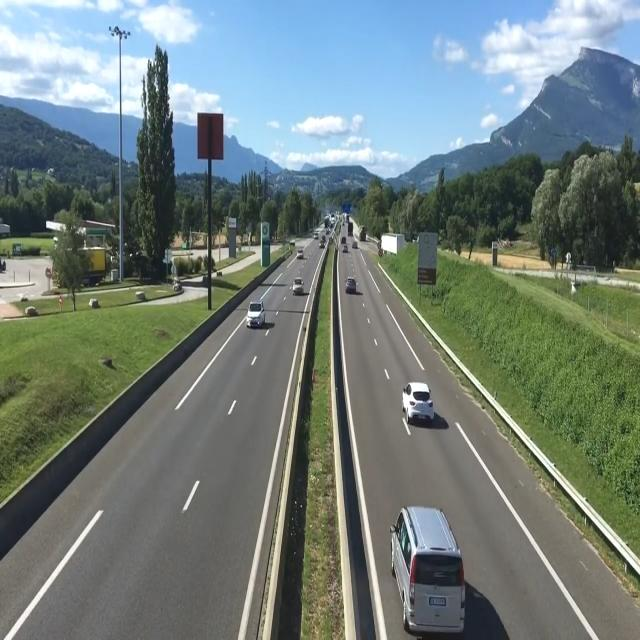Car: (387, 363, 445, 452), (239, 296, 273, 349)
Van: (370, 492, 487, 640)
